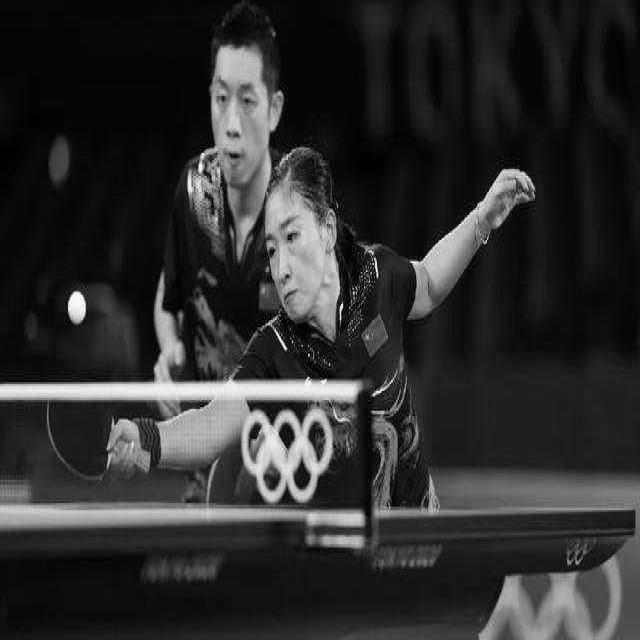ping-pong-ball: (64, 286, 88, 327)
